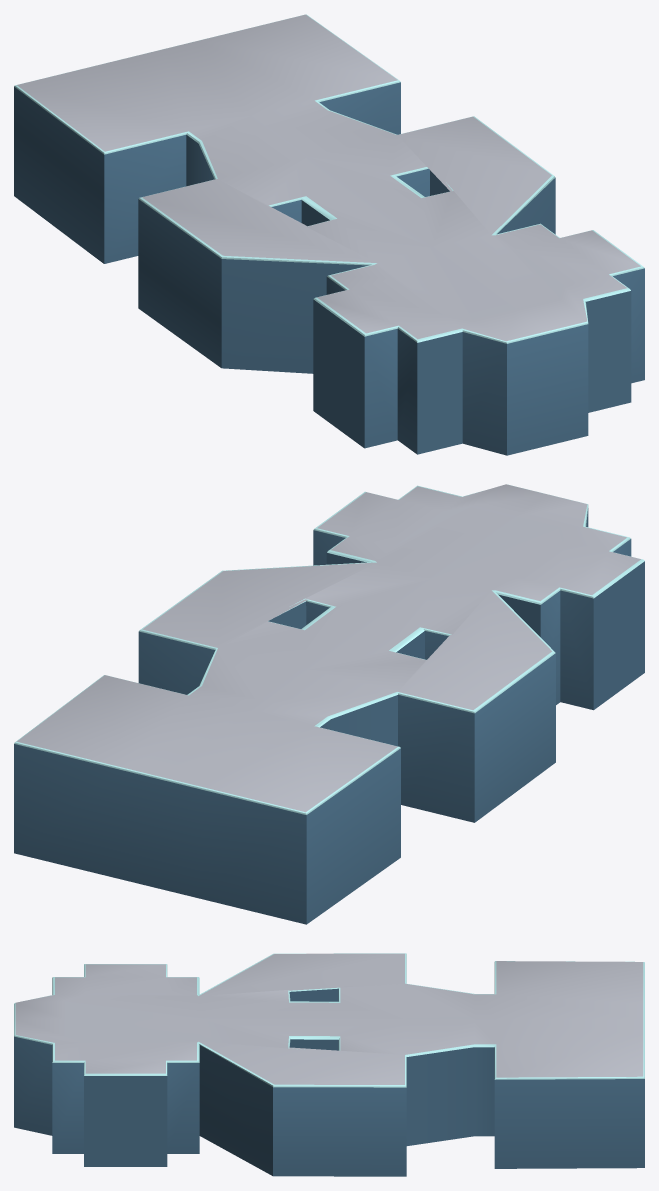
The model's file is Lvl4.fbx.
3 views of the same model, one above another, from view 1: azimuth 30°, elevation 25°; view 2: azimuth 150°, elevation 25°; view 3: azimuth 270°, elevation 25° (orthographic). The views are drawn at different scales.
Visible parts, largest first — view 1: lvl4; view 2: lvl4; view 3: lvl4.
Boxes of the visible parts, left/top/right/bottom form: lvl4: left=14, top=14, right=644, bottom=455; lvl4: left=14, top=484, right=644, bottom=924; lvl4: left=14, top=953, right=644, bottom=1176.
Size of the model in its own units: 4491 by 1451 by 8968.
